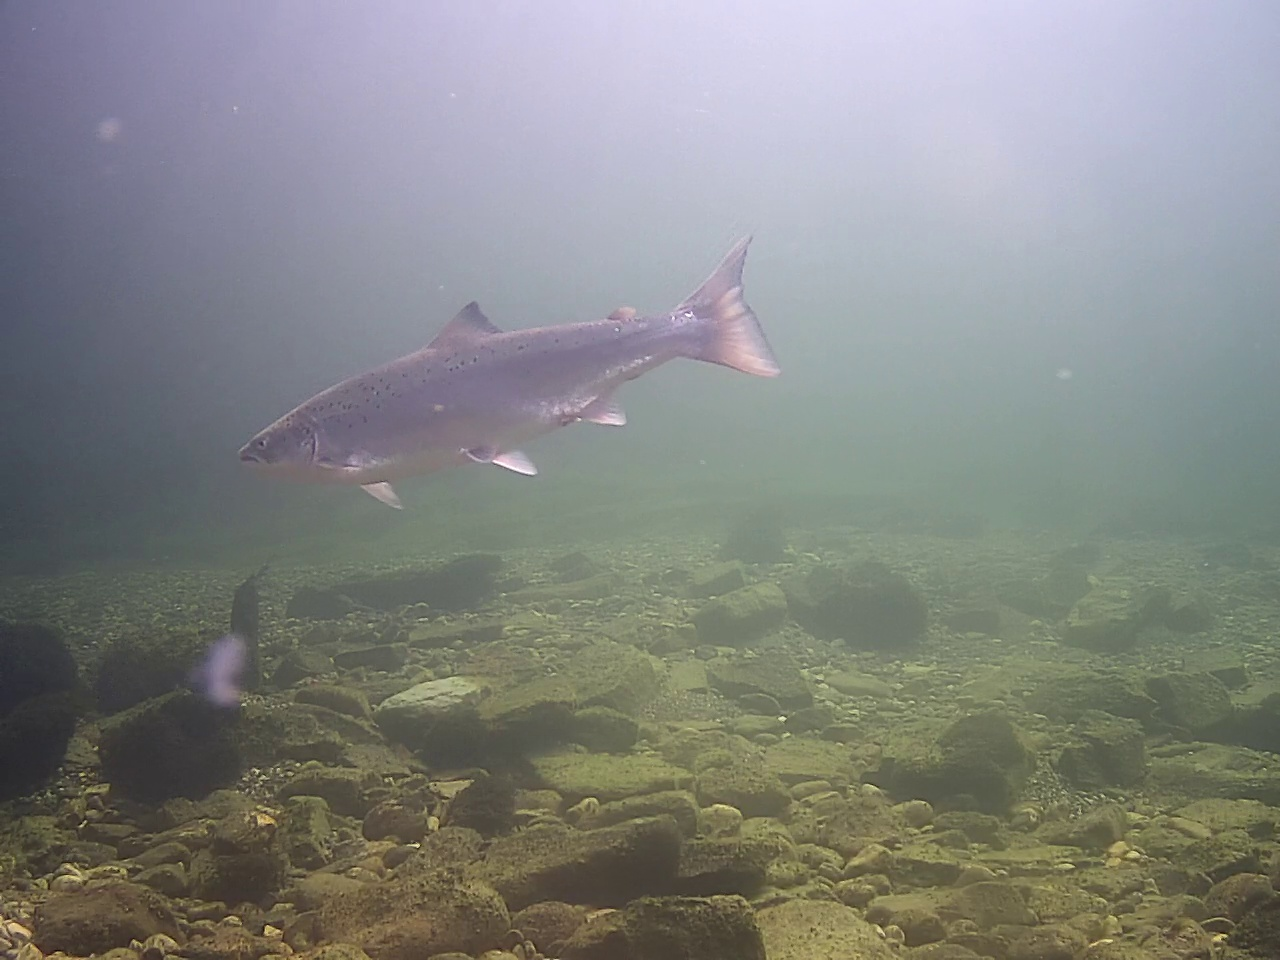salmon: (236, 233, 786, 513)
